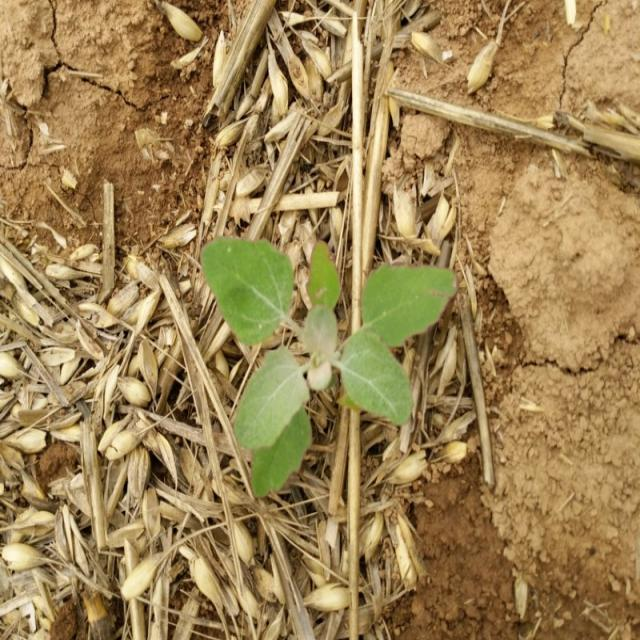ca: (200, 235, 459, 500)
